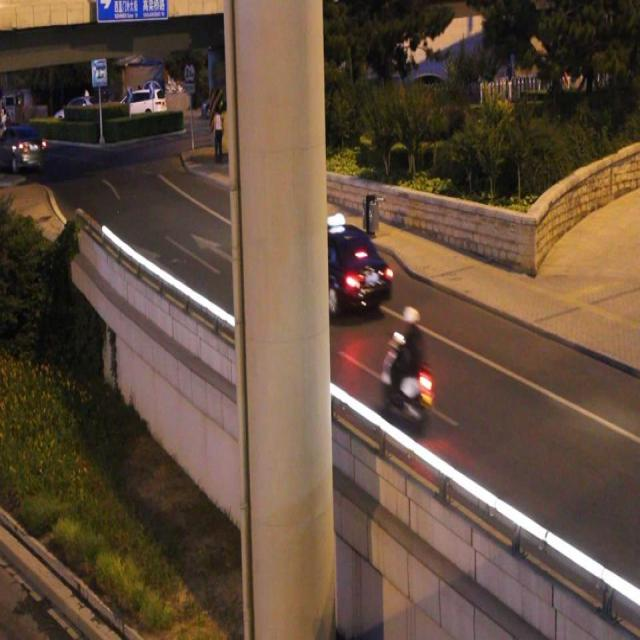car: (286, 224, 392, 314)
